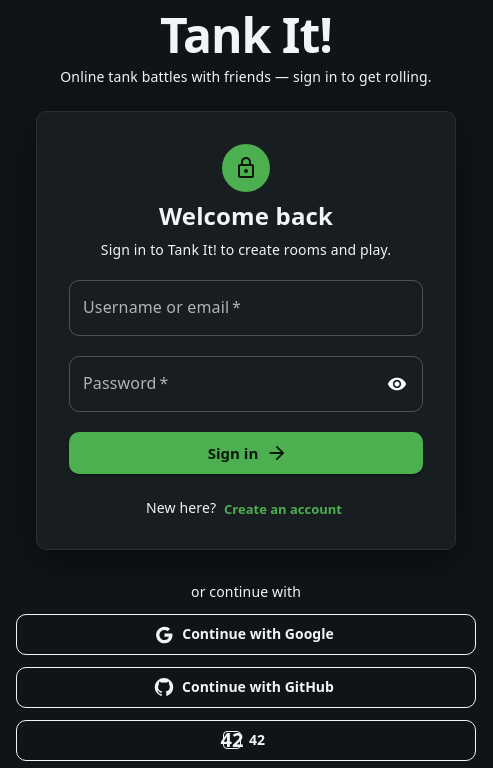
it: LoginScreen › switches to the registration screen
Click the button "Create an account" at {"x": 283, "y": 510}, box left=220, top=494, right=346, bottom=525
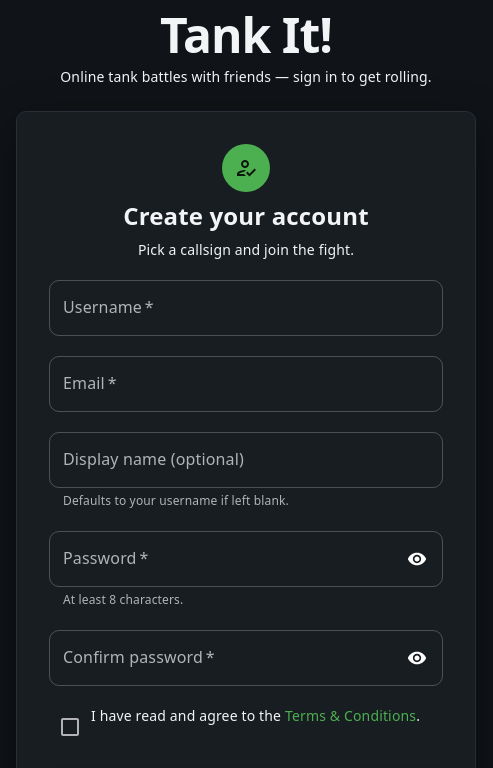
Expected: the heading "Create your account" is shown, left=123, top=200, right=369, bottom=232
